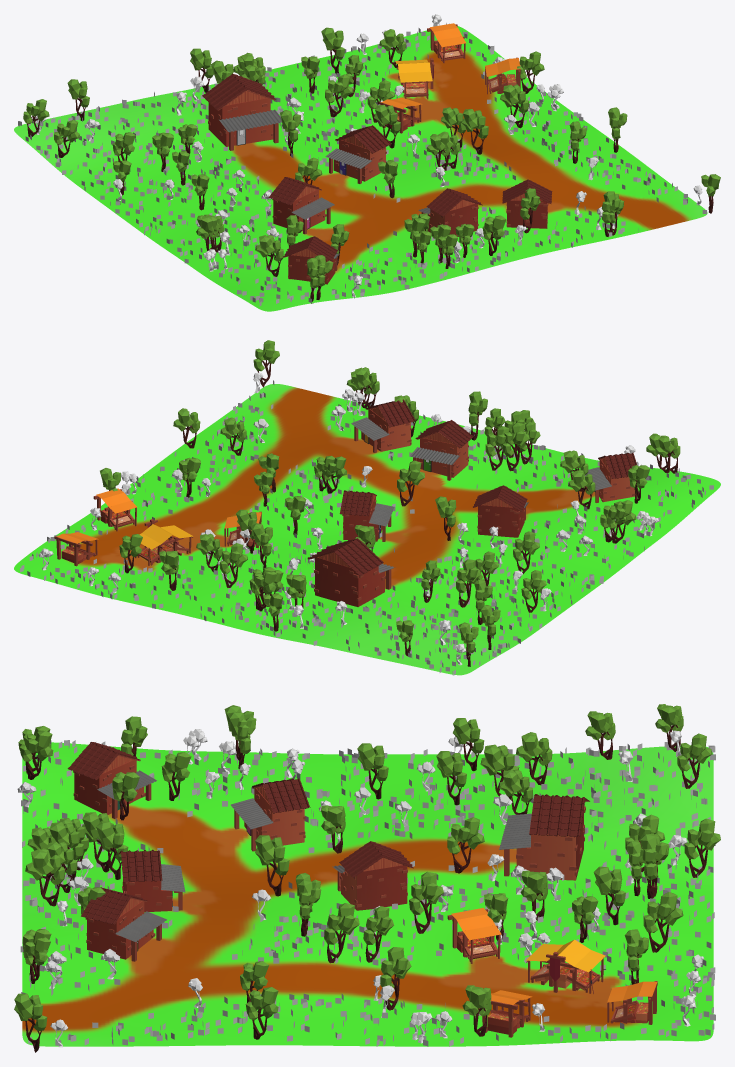
File: Desa Pertama.fbx
3 renders of one model, top to bottom at view 1: azimuth 30°, elevation 25°; view 2: azimuth 150°, elevation 25°; view 3: azimuth 270°, elevation 25°, orthographic. The views are drawn at different scales.
Visible parts, largest first — view 1: Titik Awal.001, Cube.405, Cube.577, Cube.525, Cube.439, Cube.523, Cube.371, Cube.303, Plane.036, Cube.191, Plane.038, Cube.597 (+22 smaller); view 2: Titik Awal.001, Cube.405, Cube.577, Cube.371, Cube.523, Cube.525, Plane.038, Cube.303, Cube.191, Cube.337, Plane.043, Titik Awal.001|Cube.181|Dupli|30.2 (+20 smaller); view 3: Titik Awal.001, Cube.577, Cube.439, Cube.405, Cube.597, Plane.037, Cube.525, Cube.191, Cube.523, Cube.337, Cube.371, Titik Awal.001|Cube.181|Dupli|9.2 (+51 smaller).
Boxes of the visible parts, left/top/right/bottom form: Titik Awal.001: left=14, top=26, right=707, bottom=311; Cube.405: left=208, top=90, right=273, bottom=146; Cube.577: left=395, top=58, right=434, bottom=99; Cube.525: left=427, top=23, right=466, bottom=63; Cube.439: left=333, top=137, right=385, bottom=181; Cube.523: left=485, top=57, right=520, bottom=94; Cube.371: left=273, top=188, right=325, bottom=230; Cube.303: left=427, top=203, right=477, bottom=236; Plane.036: left=219, top=109, right=281, bottom=132; Cube.191: left=507, top=197, right=547, bottom=228; Plane.038: left=202, top=75, right=246, bottom=110; Cube.597: left=379, top=97, right=422, bottom=133; Titik Awal.001: left=14, top=384, right=720, bottom=675; Cube.405: left=315, top=555, right=384, bottom=606; Cube.577: left=135, top=519, right=193, bottom=565; Cube.371: left=478, top=500, right=524, bottom=537; Cube.523: left=93, top=488, right=137, bottom=531; Cube.525: left=54, top=532, right=98, bottom=566; Plane.038: left=334, top=538, right=383, bottom=575; Cube.303: left=417, top=435, right=468, bottom=477; Cube.191: left=361, top=408, right=410, bottom=451; Cube.337: left=599, top=458, right=634, bottom=501; Plane.043: left=339, top=491, right=372, bottom=515; Titik Awal.001|Cube.181|Dupli|30.2: left=502, top=422, right=529, bottom=471; Titik Awal.001: left=22, top=742, right=713, bottom=1046; Cube.577: left=526, top=939, right=605, bottom=993; Cube.439: left=341, top=865, right=407, bottom=910; Cube.405: left=516, top=813, right=583, bottom=880; Cube.597: left=447, top=908, right=501, bottom=963; Plane.037: left=529, top=794, right=585, bottom=836; Cube.525: left=607, top=981, right=657, bottom=1024; Cube.191: left=87, top=899, right=153, bottom=959; Cube.523: left=482, top=990, right=532, bottom=1037; Cube.337: left=74, top=757, right=144, bottom=814; Cube.371: left=244, top=787, right=304, bottom=845; Titik Awal.001|Cube.181|Dupli|9.2: left=643, top=892, right=683, bottom=952.
Size of the model in its own units: 5541 by 663 by 5532.
